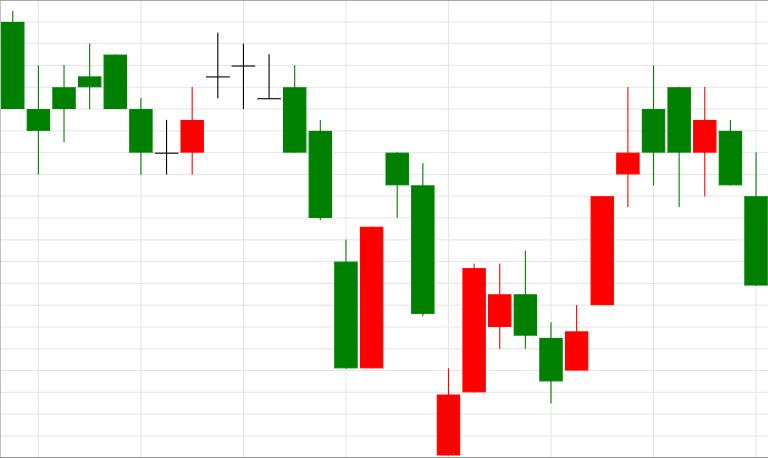bullish_engulfing_rise: (206, 32, 383, 369)
morning_star_rise: (78, 44, 204, 175)
